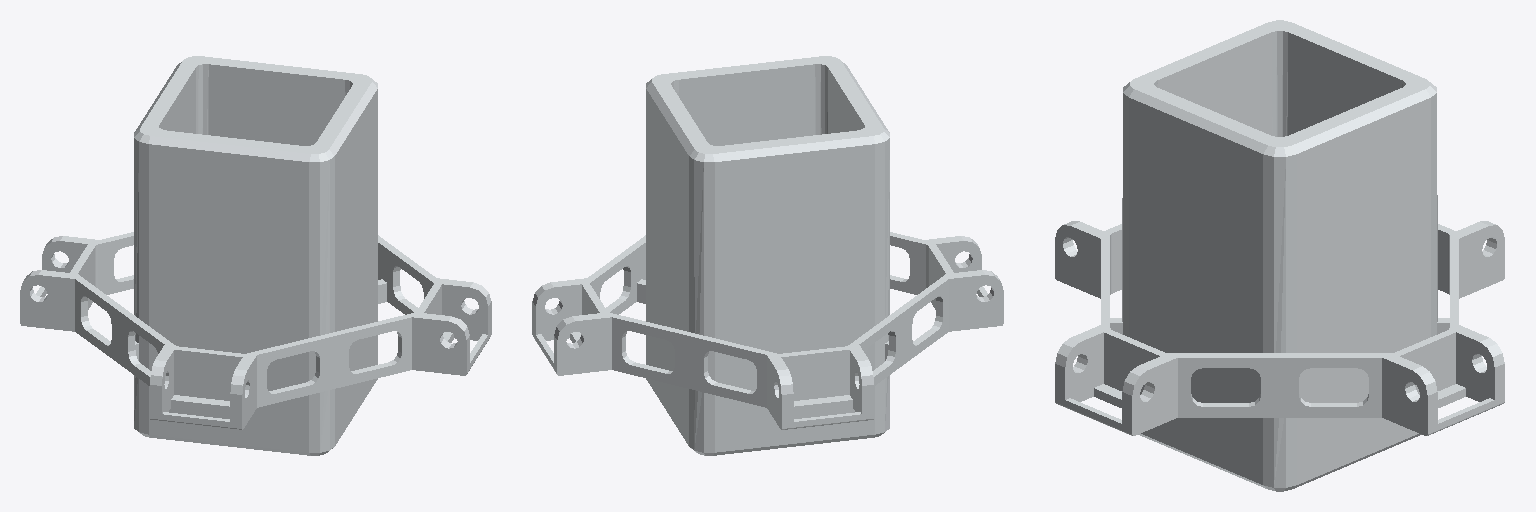
robot.urdf — object_cube:
<robot
  name="object_cube">
  <link
    name="base_link">
    <inertial>
      <origin
        xyz="0.132500000000003 0.132499999999999 -0.0662499999999996"
        rpy="0 0 0" />
      <mass
        value="1.47124857062568" />
      <inertia
        ixx="0.0232365321123193"
        ixy="-7.32404384667322E-17"
        ixz="2.07830204072989E-16"
        iyy="0.0232365321123194"
        iyz="1.96889159156655E-16"
        izz="0.0387444115770706" />
    </inertial>
    <visual>
      <origin
        xyz="0 0 0"
        rpy="0 0 0" />
      <geometry>
        <mesh
          filename="package://object_cube/meshes/base_link.STL" />
      </geometry>
      <material
        name="">
        <color
          rgba="0.898039215686275 0.917647058823529 0.929411764705882 1" />
      </material>
    </visual>
    <collision>
      <origin
        xyz="0 0 0"
        rpy="0 0 0" />
      <geometry>
        <mesh
          filename="package://object_cube/meshes/base_link.STL" />
      </geometry>
    </collision>
  </link>
</robot>

--- Facts derived from the render (not from the file) ---
3 views of the same robot in one strip: view 1: azimuth 30°, elevation 25°; view 2: azimuth 150°, elevation 25°; view 3: azimuth 270°, elevation 25° (orthographic).
Model object_cube with 1 links and 0 joints (none), rooted at base_link, posed all joints at 0.
Visible links, largest first — view 1: base_link; view 2: base_link; view 3: base_link.
Boxes of the visible links, x1=… form: base_link: x1=20, y1=56, x2=491, y2=455; base_link: x1=532, y1=56, x2=1003, y2=455; base_link: x1=1055, y1=20, x2=1504, y2=491.
Size in the robot's own frame: 0.1895 by 0.1895 by 0.16 metres.
1 mesh visuals loaded from 1 distinct referenced files (1 binary STL).